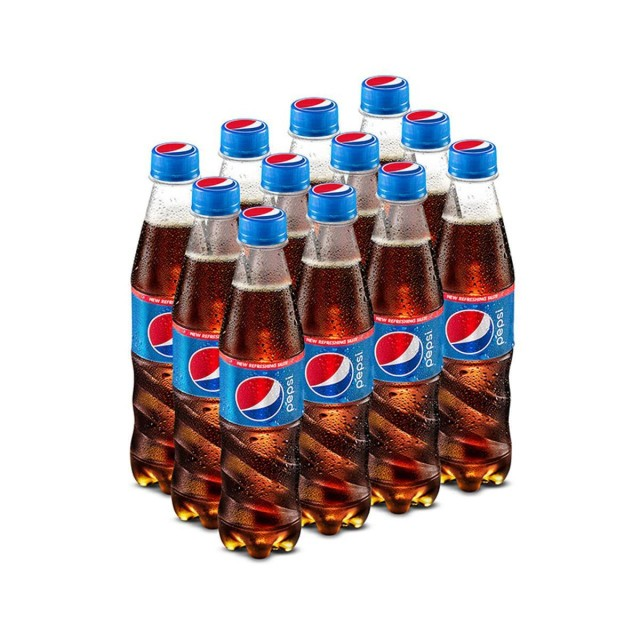pepsi: (372, 328, 428, 381), (303, 351, 358, 398), (446, 308, 496, 358), (233, 375, 284, 422), (454, 134, 495, 161), (381, 155, 424, 179), (155, 138, 195, 159), (314, 182, 350, 204)
